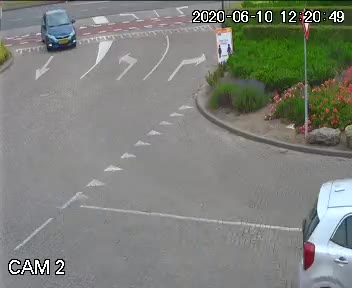car: (34, 10, 81, 56)
